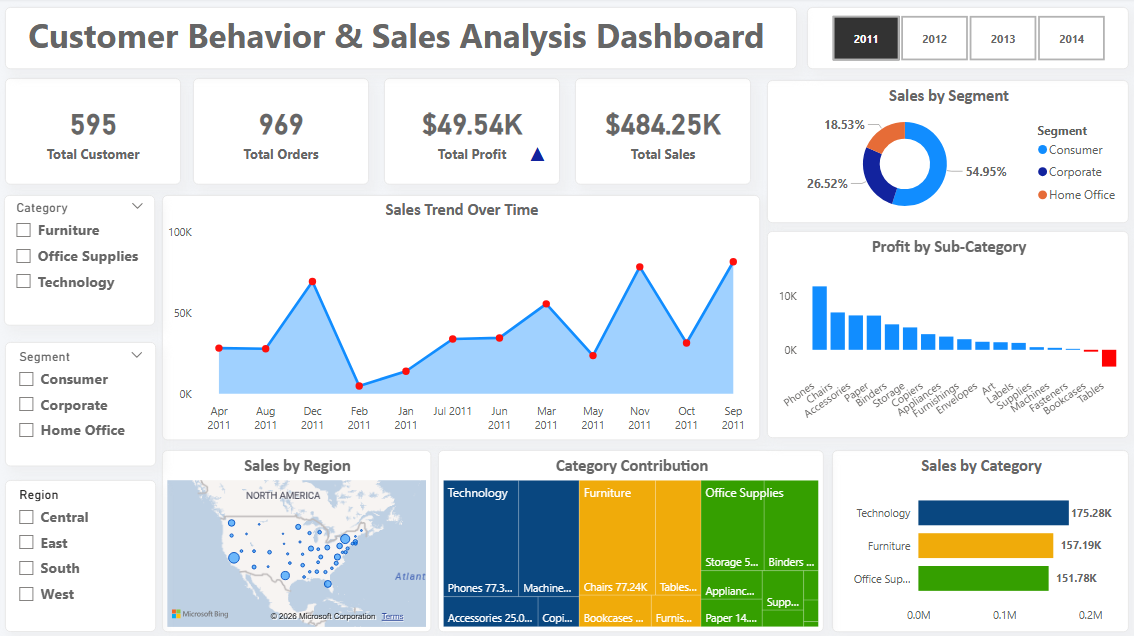

Layout of this report page (visuals, bound fields, positions):
{"tool":"powerbi","page":{"name":"Page 1","canvas":[1280,720],"ordinal":0},"visuals":[{"type":"card","title":"CUSTOMER","fields":{"Values":["Order.Total Customer"]},"box":[8,90,198,120.4],"z":0},{"type":"card","fields":{"Values":["Order.Total Orders"]},"box":[219.4,90,198,120.4],"z":1000},{"type":"card","fields":{"Values":["Order.Total Profit"]},"box":[434.2,90,198,120.4],"z":2000},{"type":"card","fields":{"Values":["Order.Total Sales"]},"box":[649.1,90,198,120.4],"z":3000},{"type":"lineChart","title":"Sales Trend Over Time","fields":{"Category":["DateTable.Month-Year"],"Y":["Order.Total Sales"]},"box":[184.5,221.6,672.8,275.6],"z":4000},{"type":"clusteredBarChart","title":"Sales by Category","fields":{"Category":["Order.Category"],"Y":["Order.Total Sales"]},"box":[938.2,508.5,334.1,204.8],"z":5000},{"type":"donutChart","title":"Sales by Segment","fields":{"Category":["Order.Segment"],"Y":["Order.Total Sales"]},"box":[865.1,92.2,407.2,160.9],"z":6000},{"type":"map","title":"Sales by Region","fields":{"Category":["Order.State"],"Size":["Order.Total Sales"]},"box":[184.5,508.5,302.6,204.8],"z":7000},{"type":"treemap","title":"Category Contribution","fields":{"Group":["Order.Category"],"Details":["Order.Sub-Category"],"Values":["Order.Total Sales"]},"box":[495,508.5,434.2,204.8],"z":8000},{"type":"clusteredColumnChart","title":"Profit by Sub-Category","fields":{"Category":["Order.Sub-Category"],"Y":["Order.Total Profit"]},"box":[865.1,262.1,407.2,232.9],"z":9000},{"type":"slicer","fields":{"Values":["Order.Region"]},"box":[7.9,542.2,170,171],"z":10000},{"type":"slicer","fields":{"Values":["Order.Segment"]},"box":[7.9,387,170,140],"z":11000},{"type":"slicer","fields":{"Values":["Order.Category"]},"box":[6.8,221.6,169.9,147.4],"z":12000},{"type":"slicer","fields":{"Values":["DateTable.Year"]},"box":[910.1,10.1,362.2,69.8],"z":13000},{"type":"textbox","box":[7.9,10.1,891,69.8],"z":14000},{"type":"card","fields":{"Values":["Order.Profit Icon"]},"box":[589.5,156.4,34.9,33.8],"z":15000}]}

Visuals, with their boxes in screenshot pixels (x1, y1, x2, y2), scaled from the page's 1280x720 canvas onto the 1134x636 screenshot:
"CUSTOMER" card: 7, 80, 183, 186
card - Order.Total Orders: 194, 80, 370, 186
card - Order.Total Profit: 385, 80, 560, 186
card - Order.Total Sales: 575, 80, 750, 186
"Sales Trend Over Time" lineChart: 163, 196, 760, 439
"Sales by Category" clusteredBarChart: 831, 449, 1127, 630
"Sales by Segment" donutChart: 766, 81, 1127, 224
"Sales by Region" map: 163, 449, 432, 630
"Category Contribution" treemap: 439, 449, 823, 630
"Profit by Sub-Category" clusteredColumnChart: 766, 232, 1127, 437
slicer - Order.Region: 7, 479, 158, 630
slicer - Order.Segment: 7, 342, 158, 466
slicer - Order.Category: 6, 196, 157, 326
slicer - DateTable.Year: 806, 9, 1127, 71
textbox: 7, 9, 796, 71
card - Order.Profit Icon: 522, 138, 553, 168
